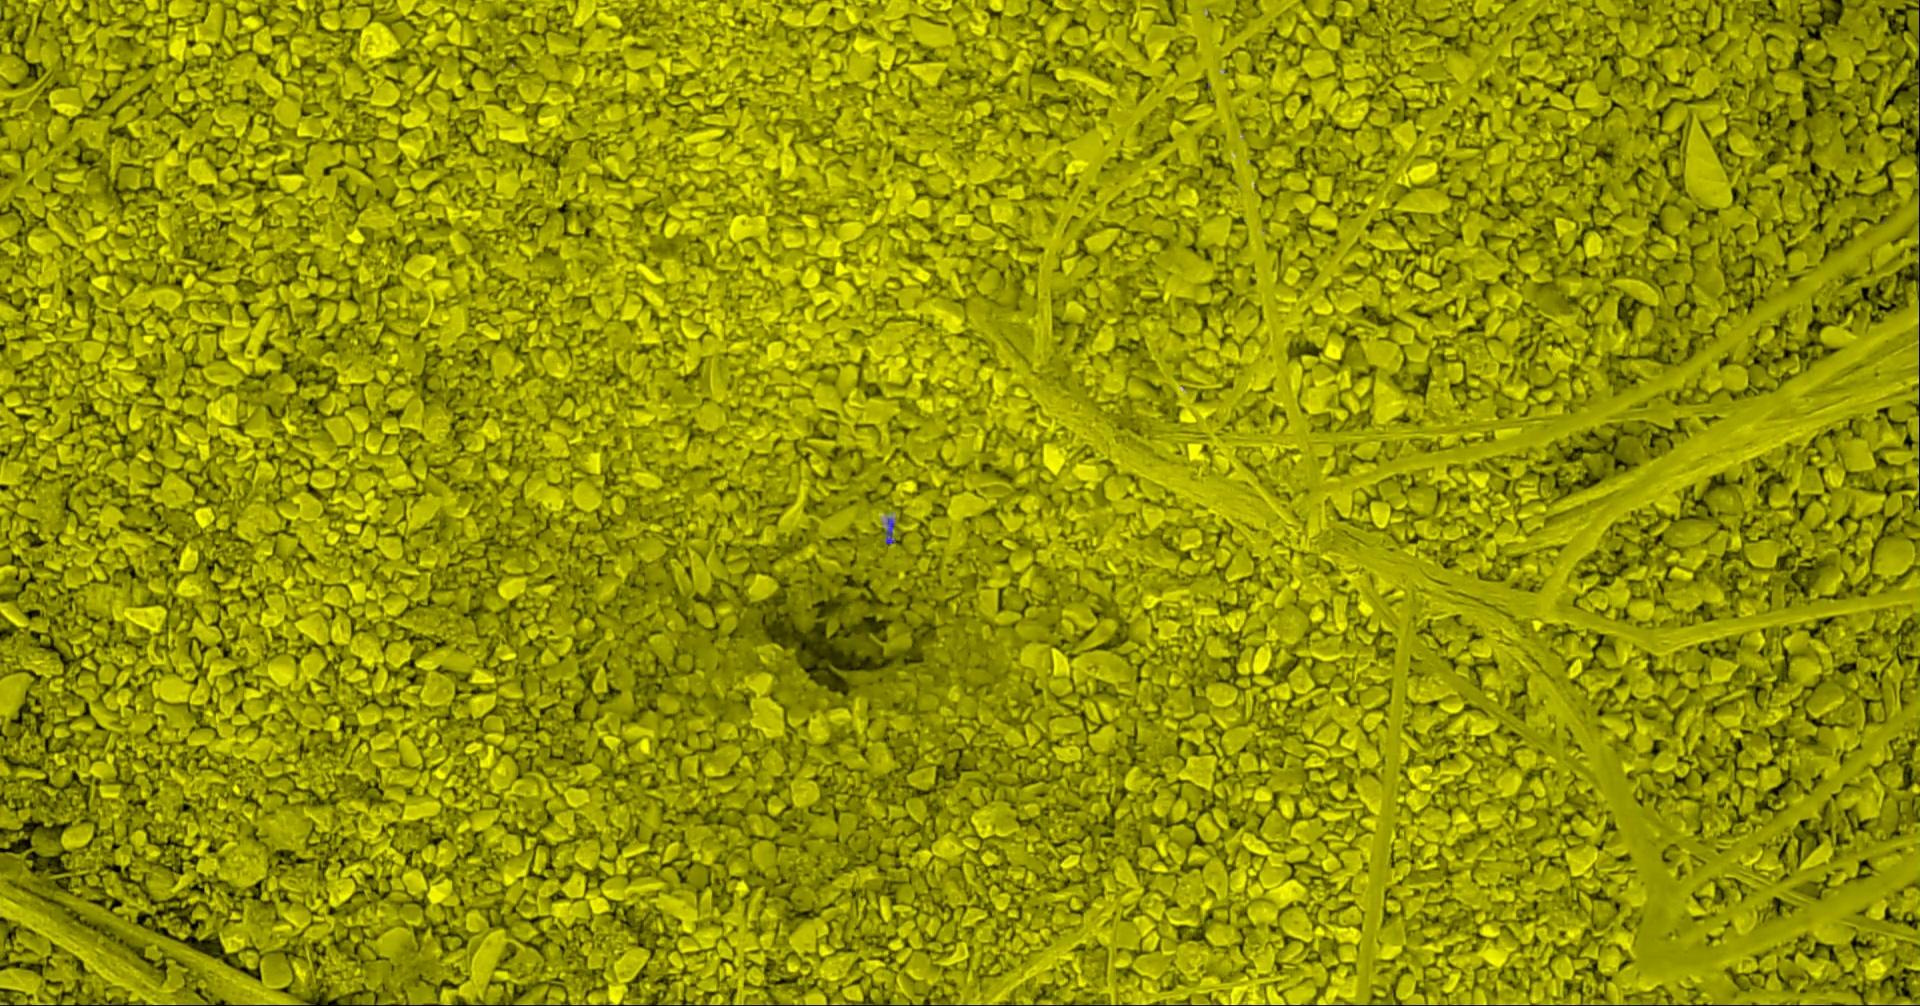ant: (885, 517, 894, 544)
